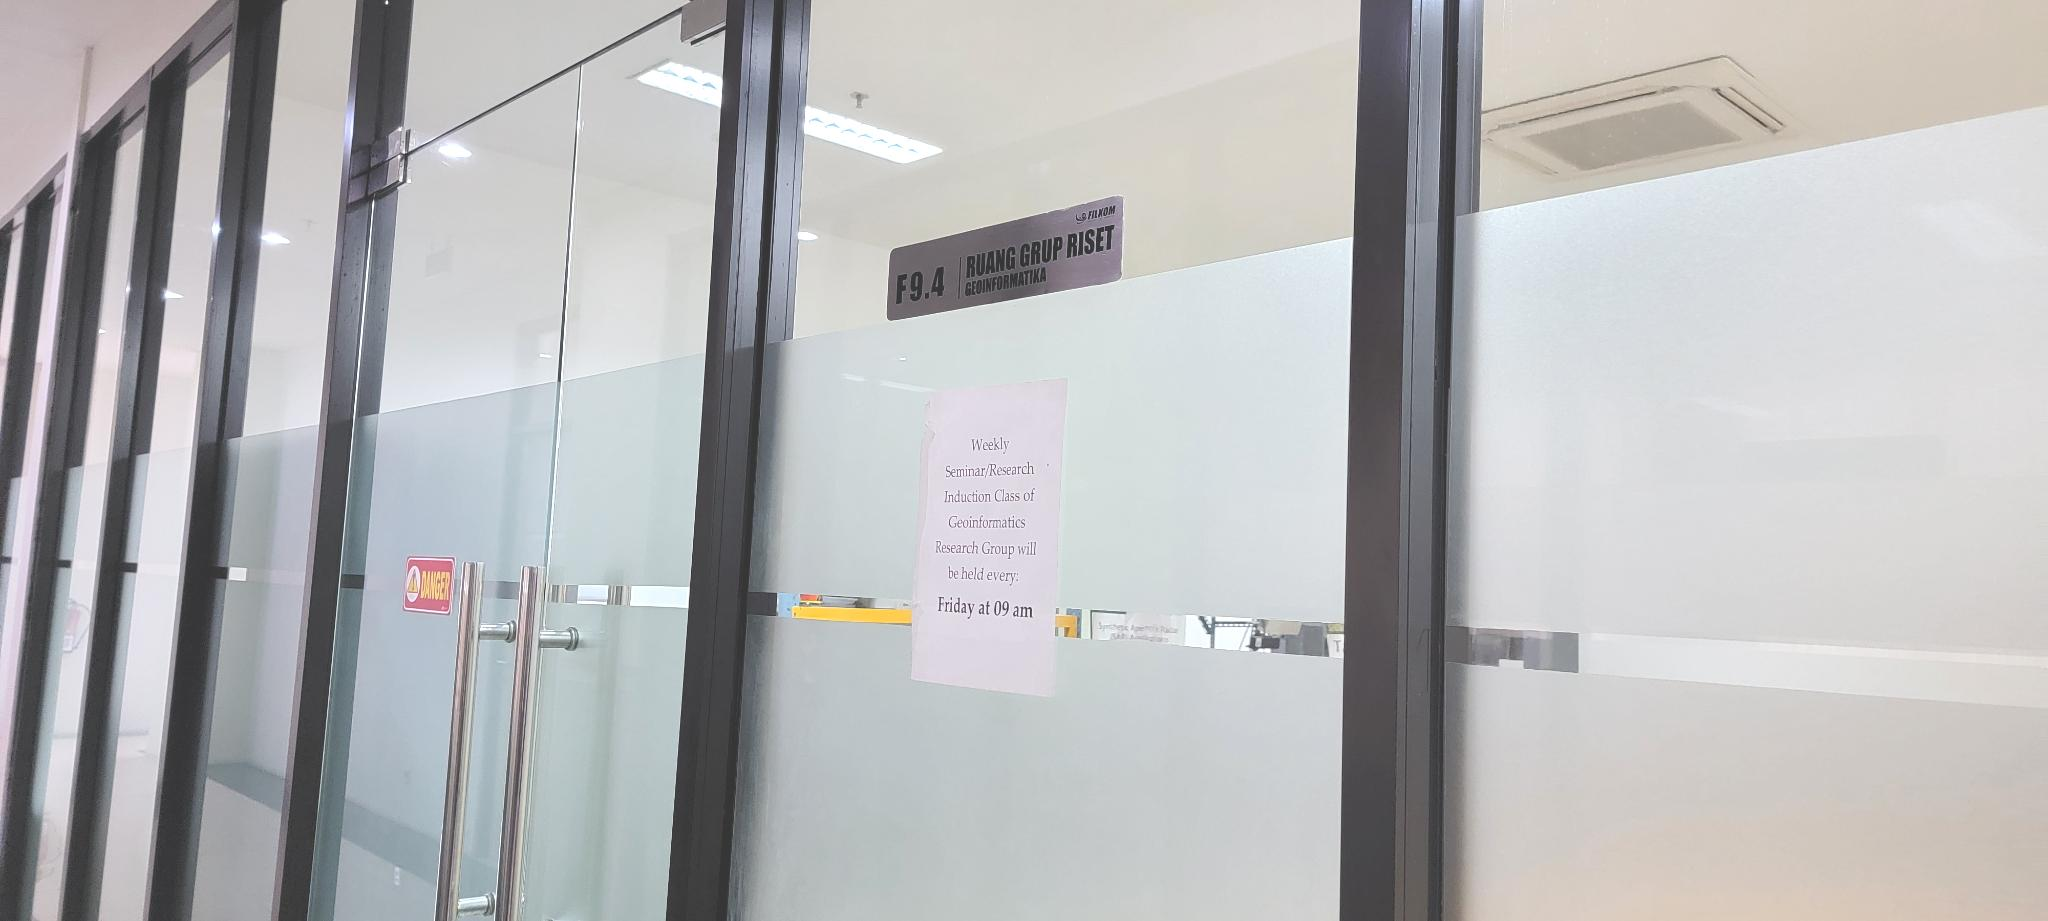plate: (886, 193, 1123, 320)
